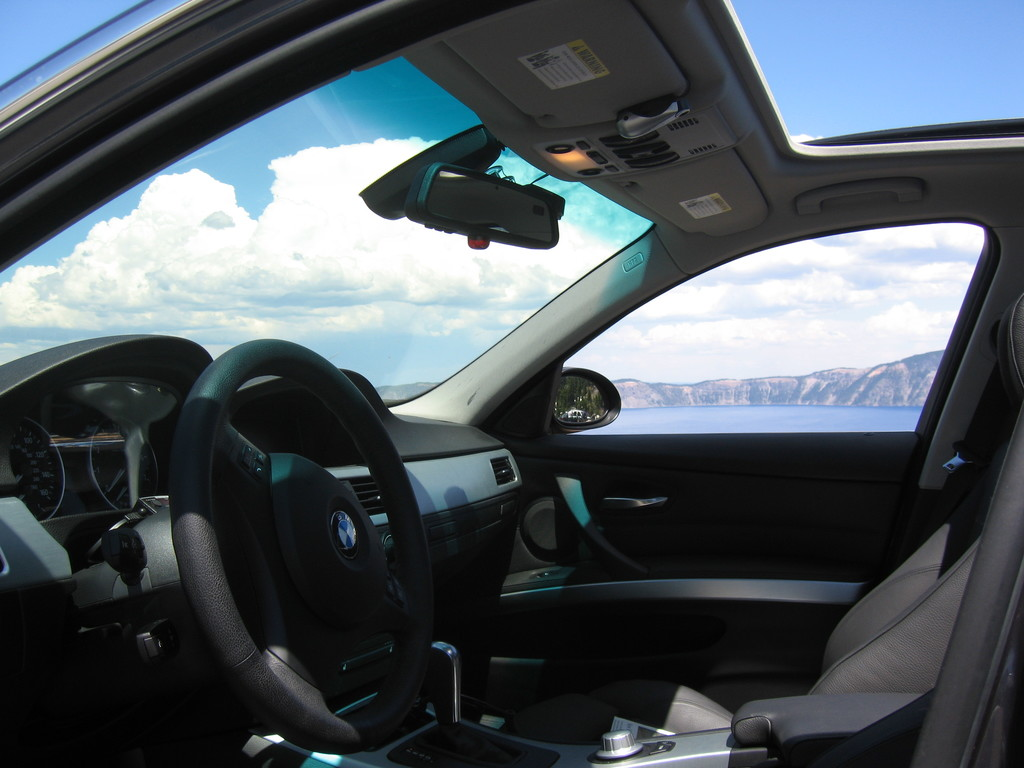Car: (1, 0, 1022, 768)
